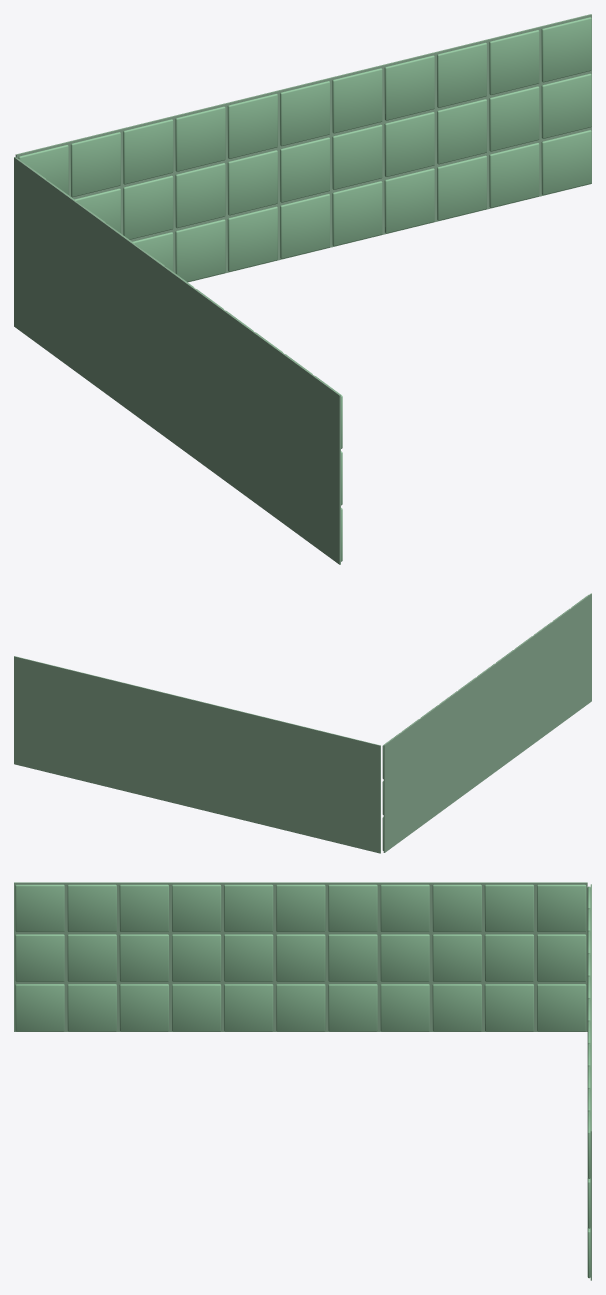
The model's file is wall_tiles.glb.
3 renders of one model, top to bottom at view 1: azimuth 30°, elevation 25°; view 2: azimuth 150°, elevation 25°; view 3: azimuth 270°, elevation 25°, orthographic. The views are drawn at different scales.
Visible parts, largest first — view 1: wall_tiles; view 2: wall_tiles; view 3: wall_tiles.
Part boxes in pixels (x1,y1,x2,y2): wall_tiles: (14,14,591,564); wall_tiles: (14,593,591,853); wall_tiles: (14,882,591,1280).
Size of the model in its own units: 4.12 by 1.15 by 4.04.
